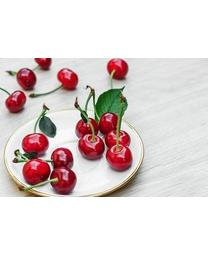cherry: (106, 143, 132, 170), (78, 134, 104, 160), (51, 168, 76, 194), (23, 159, 49, 184), (106, 129, 132, 151), (23, 134, 49, 153), (17, 67, 35, 93), (76, 117, 98, 138), (5, 88, 25, 111), (58, 67, 78, 89), (50, 149, 73, 167), (99, 113, 118, 132), (108, 59, 127, 77)
